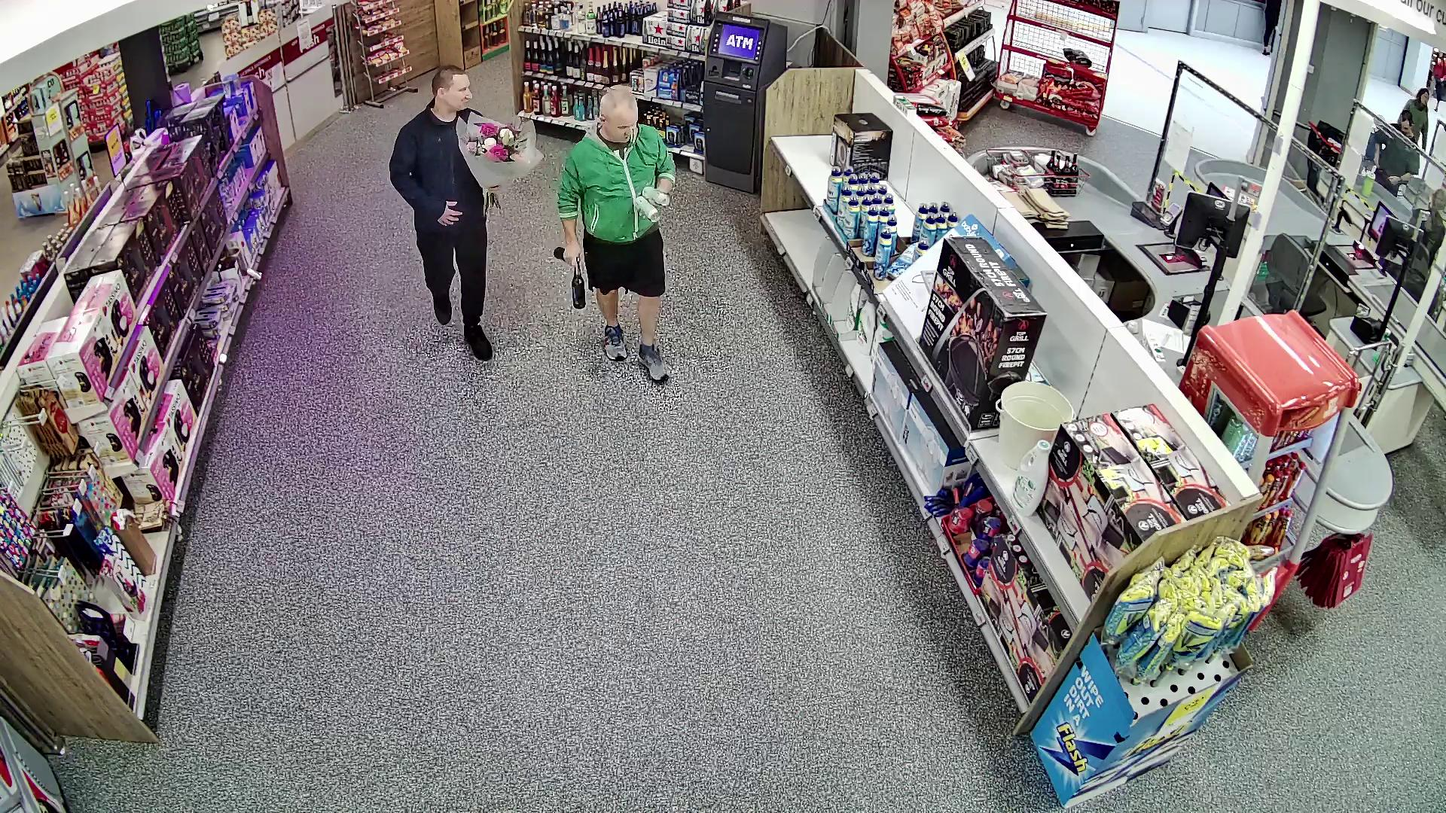carrying-item: (454, 113, 544, 208), (552, 243, 588, 308), (634, 185, 671, 224)
person: (557, 85, 676, 381), (390, 64, 493, 361)
person-with-carrying-item: (390, 63, 544, 357), (550, 85, 677, 381)
vacant-checkout-counter: (1026, 183, 1255, 336), (1269, 201, 1421, 321)
